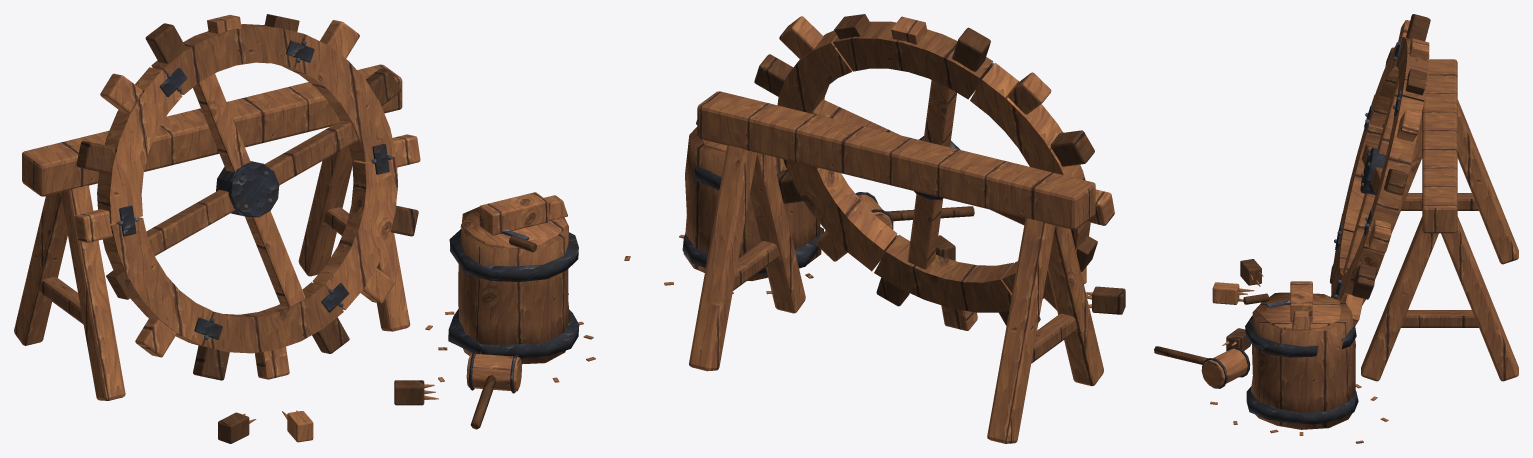
File: hw_broken_cog.glb
3 renders of one model, left to right at view 1: azimuth 30°, elevation 25°; view 2: azimuth 150°, elevation 25°; view 3: azimuth 270°, elevation 25°, orthographic. The views are drawn at different scales.
Parts seen in each view (by area): view 1: model; view 2: model; view 3: model.
Boxes of the visible parts, x1,y1,x2,y2 form: model: (14, 14, 595, 443); model: (624, 14, 1125, 443); model: (1154, 14, 1518, 443).
Bounding box in the file's own units: 1.89 × 1.24 × 1.45.
Materials: 6 (6 with a texture image).
